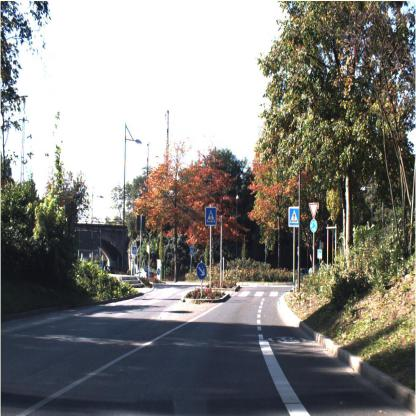mandatory: (286, 204, 301, 230), (195, 262, 208, 280), (205, 207, 216, 226), (310, 219, 318, 234), (155, 264, 162, 277), (132, 244, 136, 256), (190, 247, 194, 256)
other: (307, 199, 321, 217)
